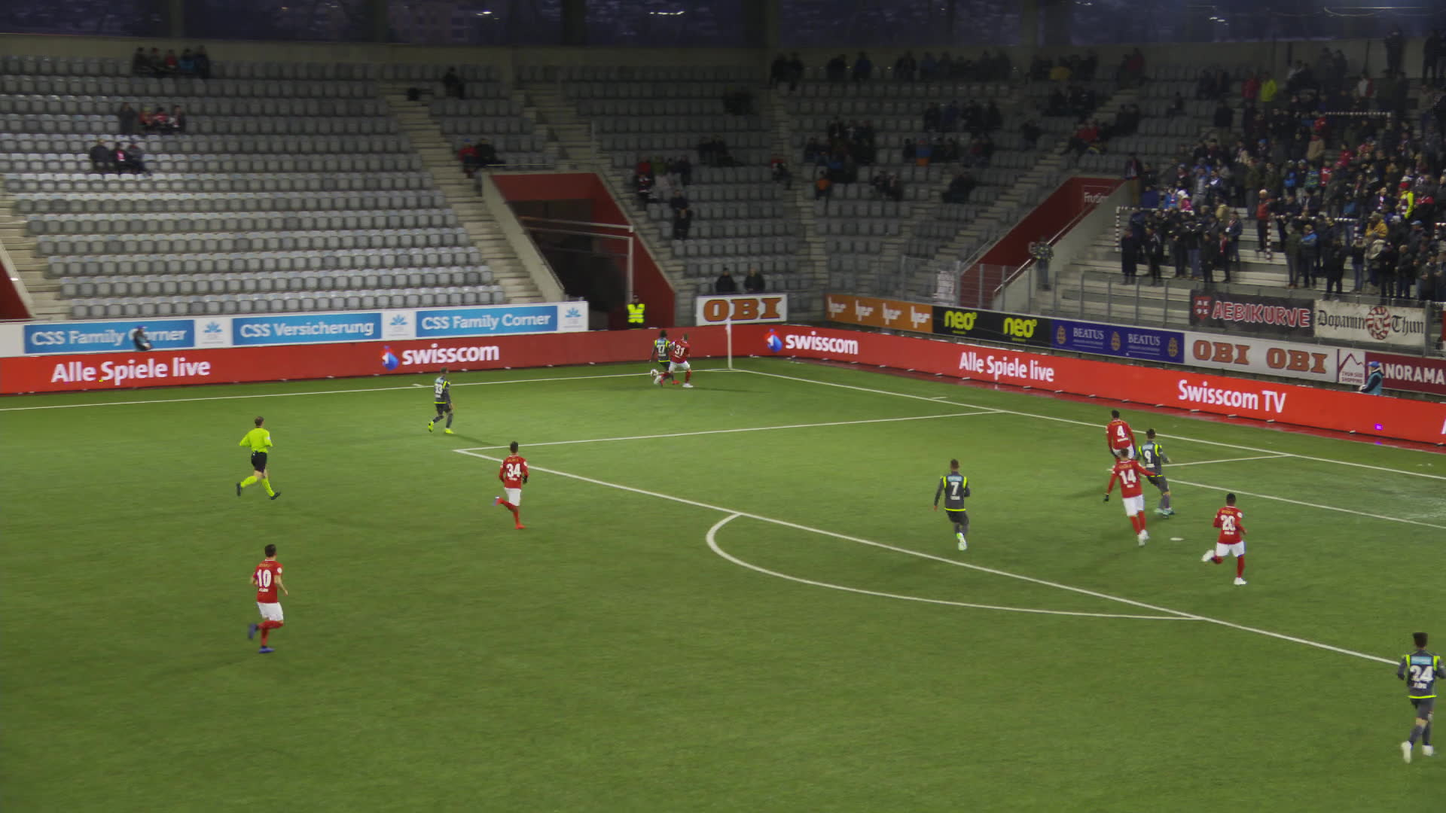ball: (651, 369, 658, 375)
player: (1396, 628, 1445, 765), (1104, 450, 1158, 547), (244, 543, 288, 653), (1203, 491, 1248, 588), (1133, 428, 1177, 527), (932, 458, 976, 554), (492, 439, 531, 531), (654, 331, 700, 388), (1103, 411, 1137, 488), (649, 328, 680, 387), (431, 365, 457, 434)
referee: (238, 416, 279, 508)
